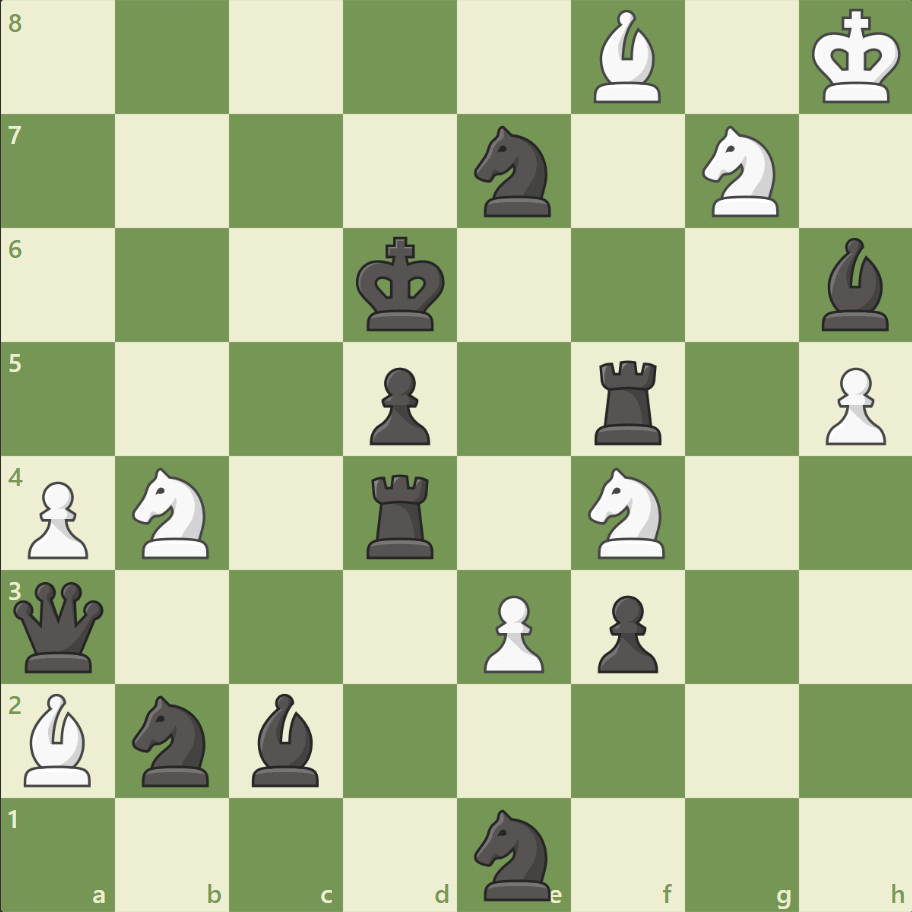B: (585, 6, 669, 109), (17, 687, 101, 790)
K: (806, 4, 906, 112)
N: (124, 461, 222, 564), (579, 461, 676, 564), (692, 121, 789, 223)
P: (20, 473, 95, 564), (474, 586, 549, 677), (815, 359, 889, 450)
b: (812, 233, 896, 336), (244, 687, 328, 790)
k: (351, 231, 451, 339)
n: (124, 688, 222, 791), (465, 121, 562, 223), (465, 802, 562, 904)
p: (361, 359, 435, 450), (588, 586, 662, 677)
q: (10, 576, 109, 676)
r: (587, 352, 670, 449), (360, 466, 442, 563)
